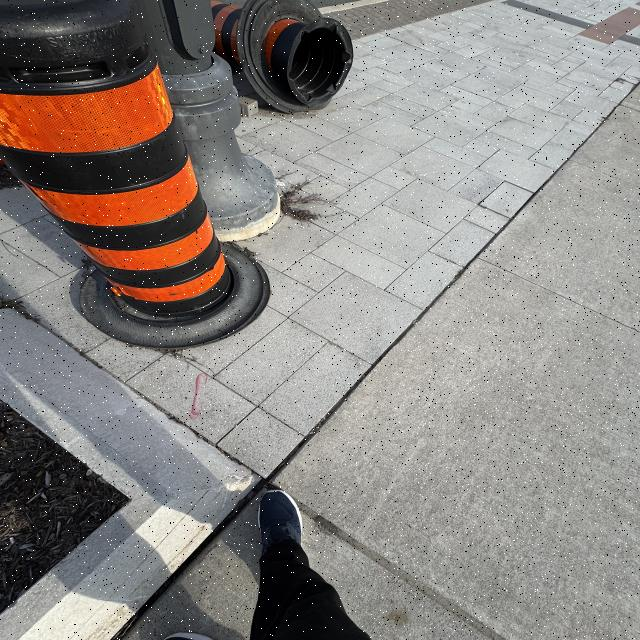Teraffic Barrel: (0, 0, 268, 347), (211, 0, 353, 113)
